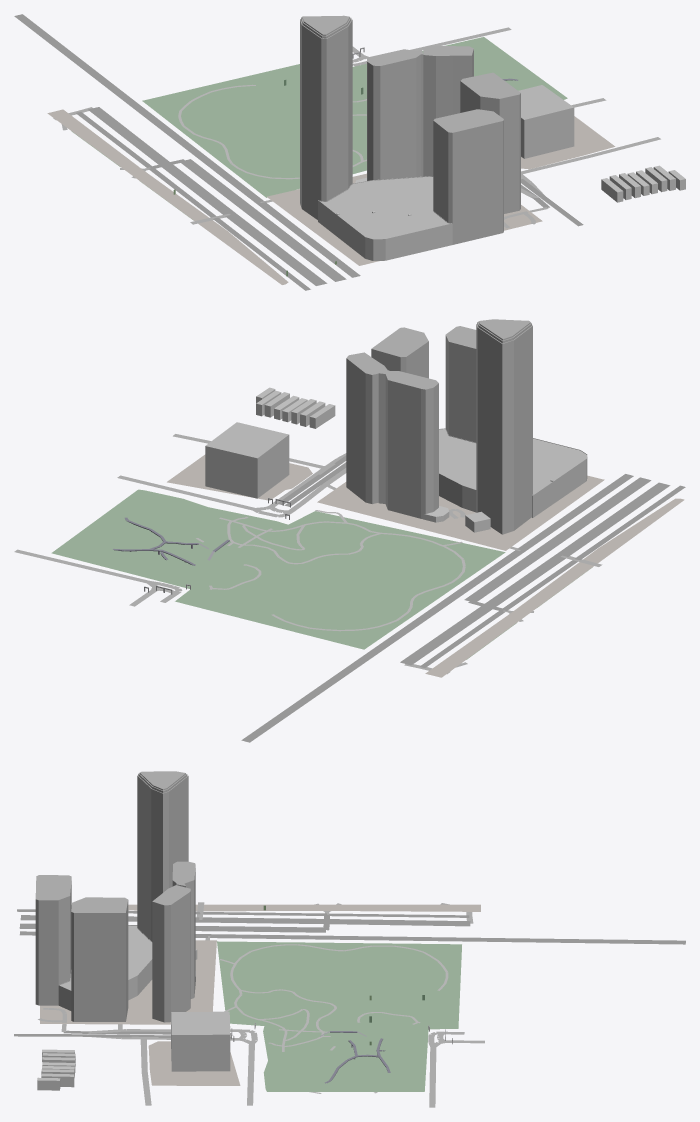
3 renders of one model, top to bottom at view 1: azimuth 30°, elevation 25°; view 2: azimuth 150°, elevation 25°; view 3: azimuth 270°, elevation 25°, orthographic. The views are drawn at different scales.
Size of the model in its own units: 543 by 224 by 762.
